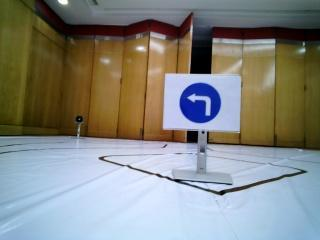left: (166, 75, 235, 131)
